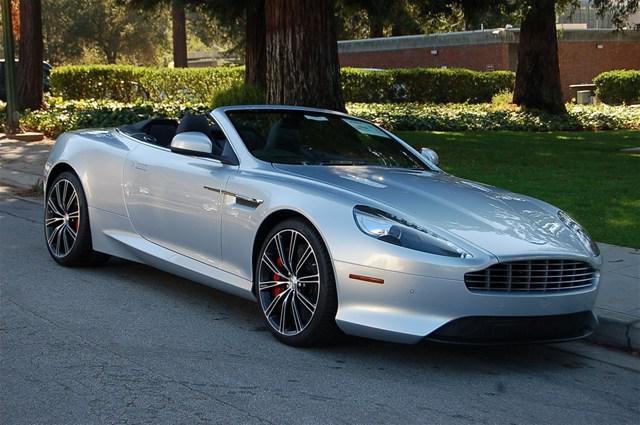Car: (11, 85, 614, 364)
